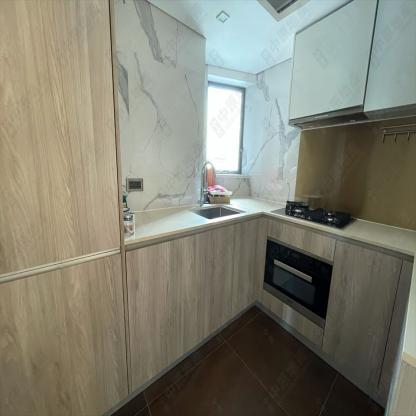Cupboard: (289, 0, 416, 120)
Exhaust Hood: (287, 106, 368, 130)
Faucet: (198, 160, 217, 204)
Oven: (262, 234, 334, 330)
Sink: (188, 205, 246, 219)
Stove: (270, 200, 357, 230)
